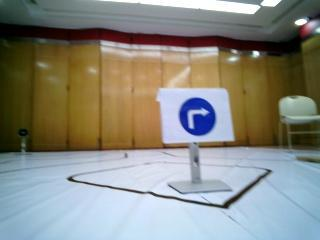right: (168, 88, 234, 143)
